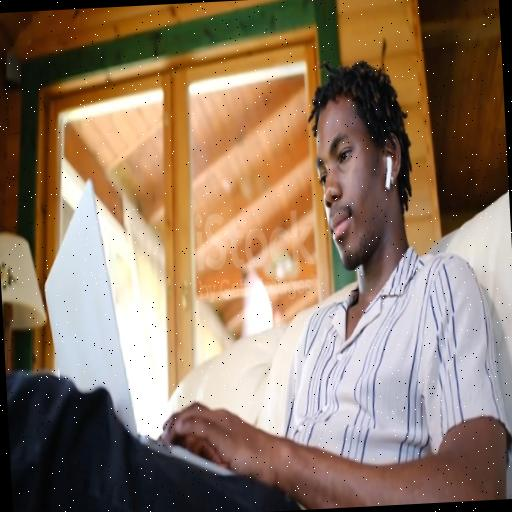earphone: (383, 145, 396, 197)
